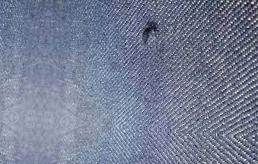knot: (140, 24, 160, 48)
